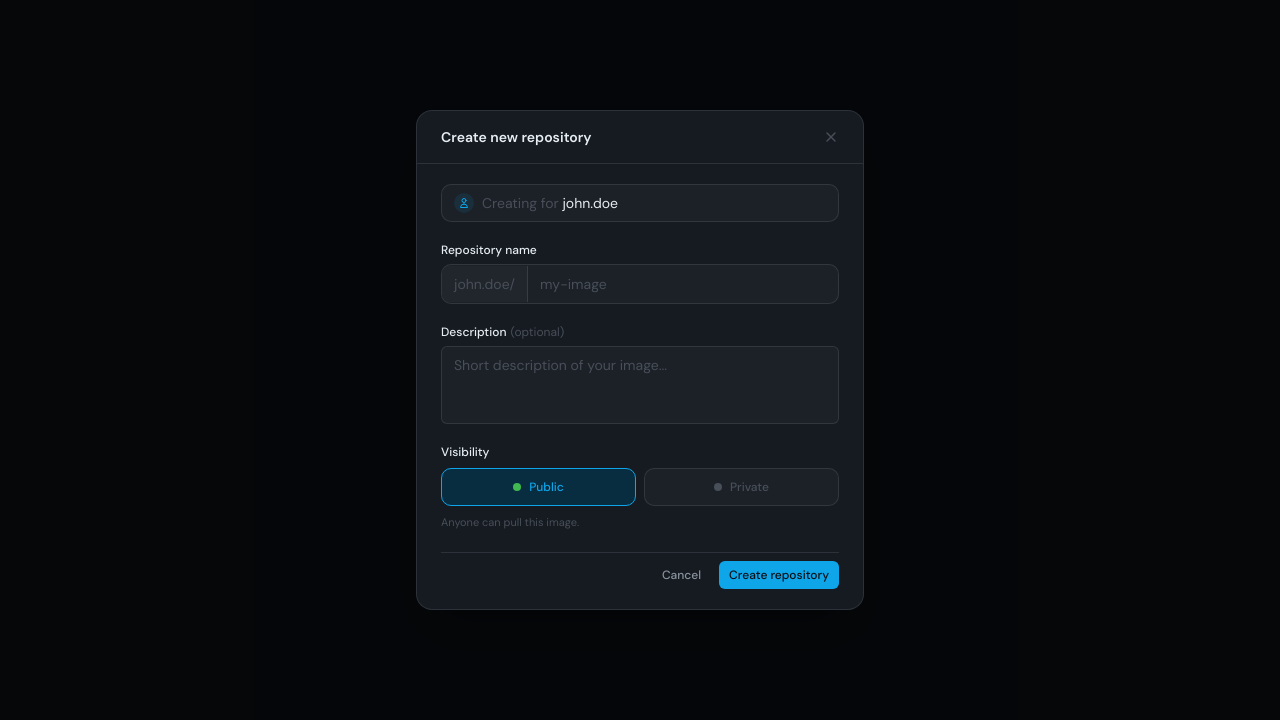
Scenario: CreateRepositoryModal › prikazuje gresku za neispravan naziv
This screenshot has width=1280, height=720.
Type "My Repo!" into the field labelled "Repository name".
click(683, 284); type("My Repo!")  # box left=528, top=265, right=838, bottom=303
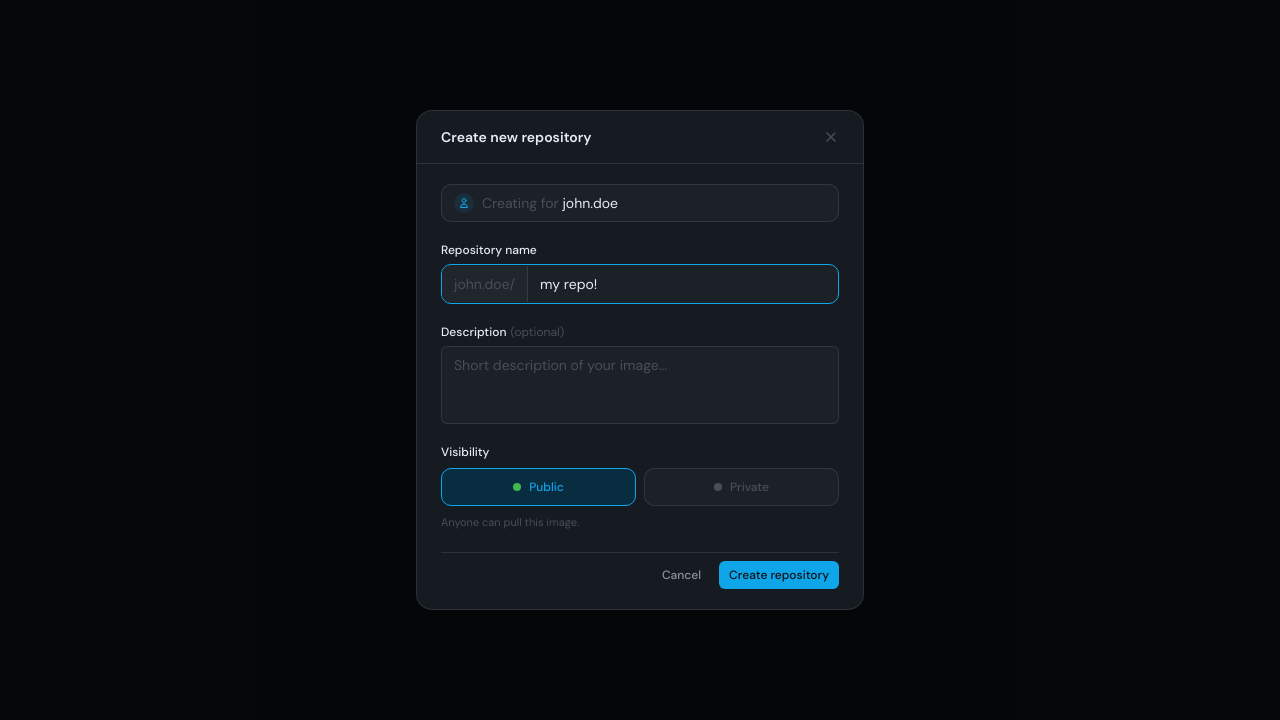
Click the button "Create repository".
click(779, 575)  # box left=719, top=561, right=839, bottom=589
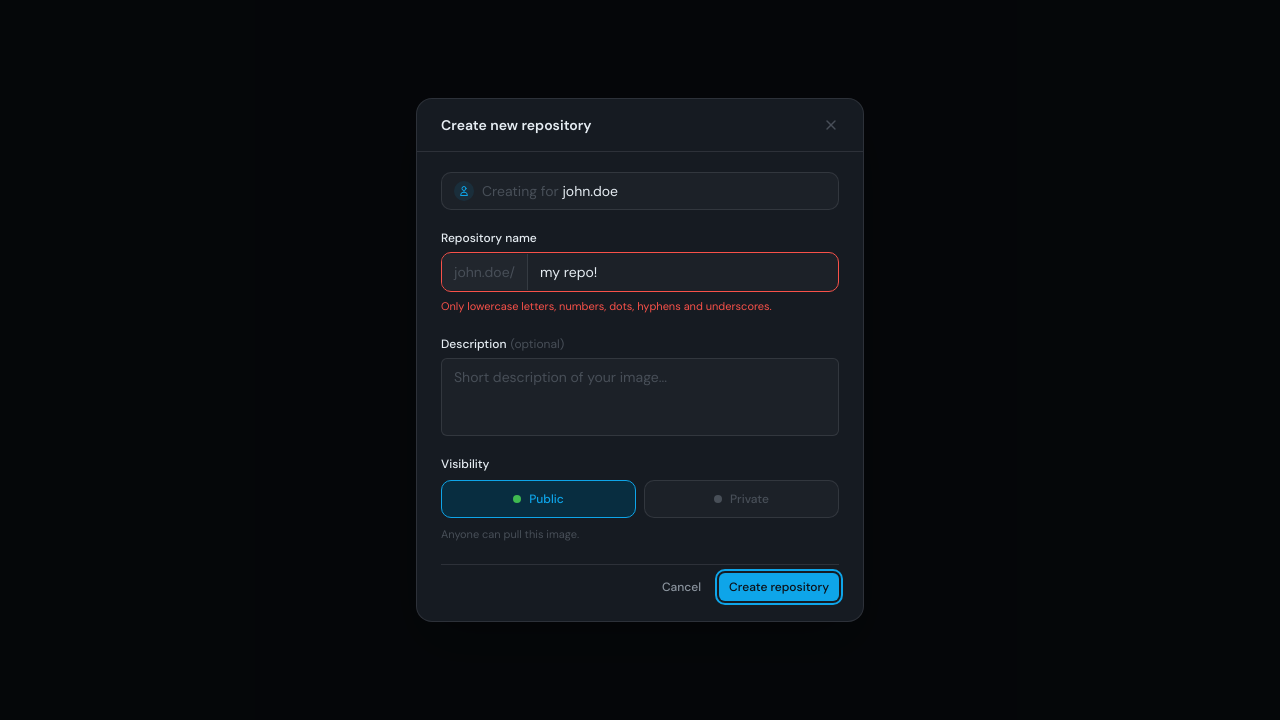
Expected: the text "lowercase letters" is shown, left=441, top=299, right=772, bottom=313
